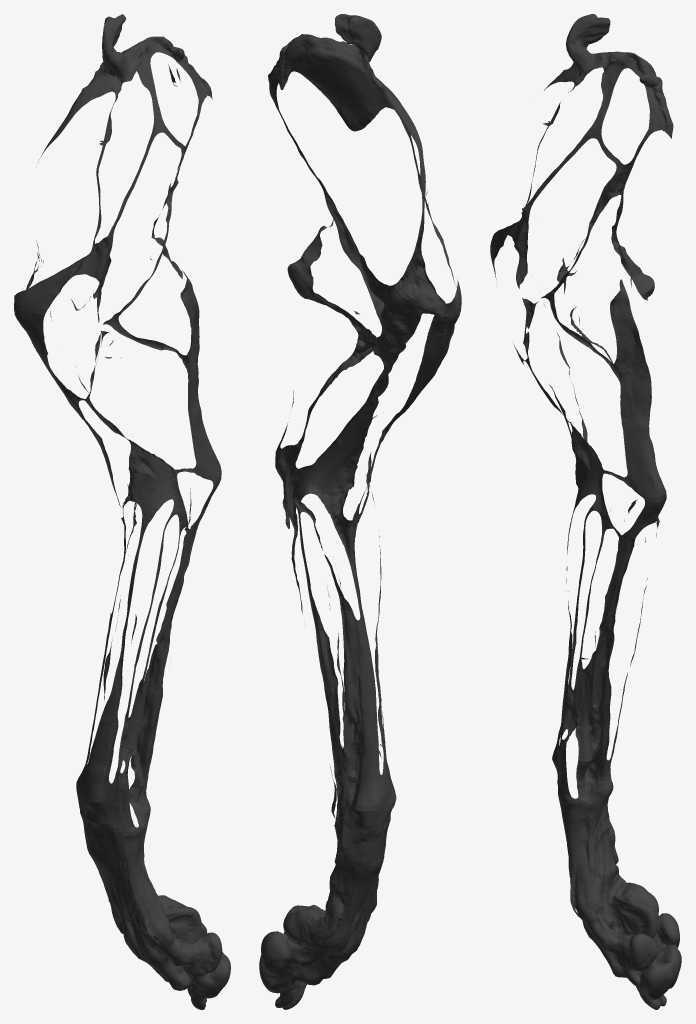
File: Blocker_mesh.glb
3 views of the same model, side by side, from view 1: azimuth 30°, elevation 25°; view 2: azimuth 150°, elevation 25°; view 3: azimuth 330°, elevation 25° (orthographic). The views are drawn at different scales.
Parts seen in each view (by area): view 1: Blocker_mesh; view 2: Blocker_mesh; view 3: Blocker_mesh.
Boxes of the visible parts, <box> form: Blocker_mesh: <box>14,14,230,1009</box>; Blocker_mesh: <box>259,14,461,1009</box>; Blocker_mesh: <box>490,14,681,1009</box>.
Size of the model in its own units: 0.227 by 1.08 by 0.0946.
Materials: 1 (1 with a texture image).
